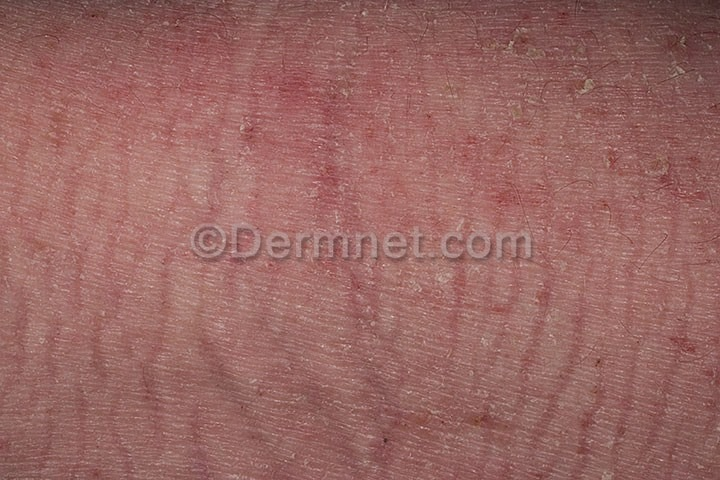Eczema: (3, 1, 720, 480)
